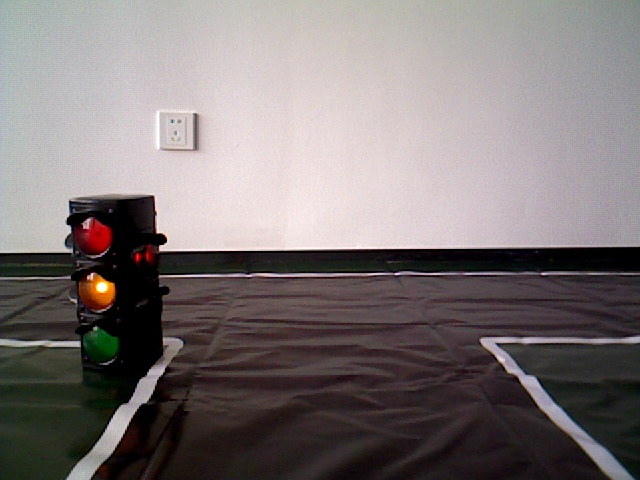yellow: (71, 194, 159, 379)
